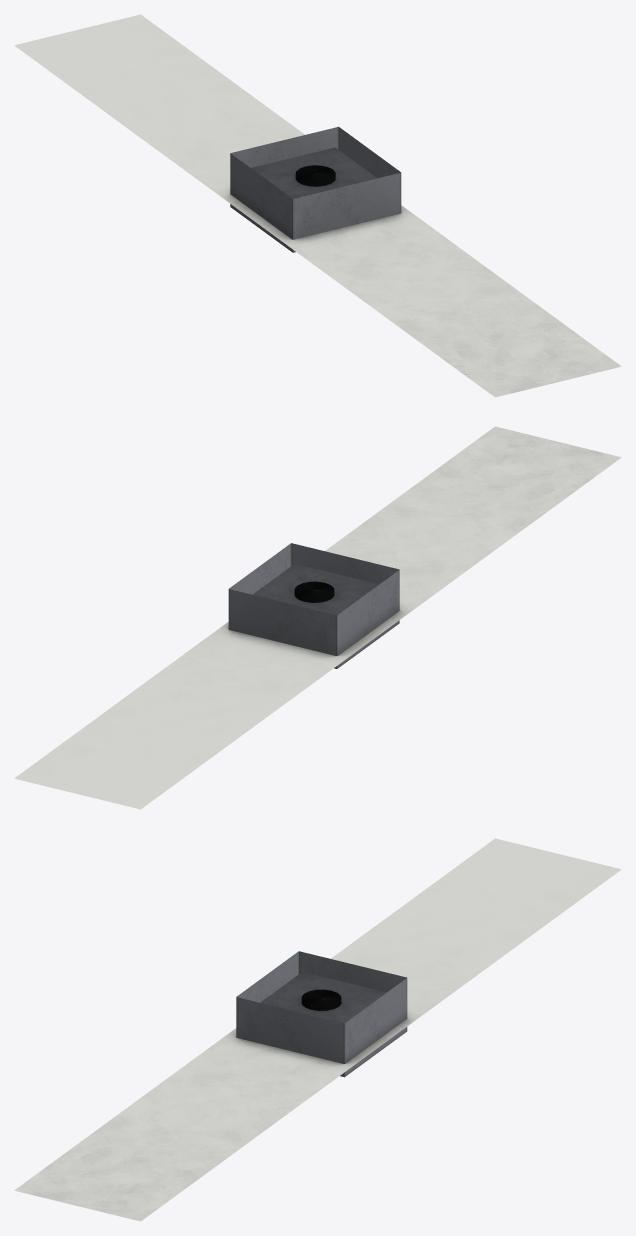
The model's file is Roof_vent.fbx.
3 renders of one model, top to bottom at view 1: azimuth 30°, elevation 25°; view 2: azimuth 150°, elevation 25°; view 3: azimuth 330°, elevation 25°, orthographic.
Visible parts, largest first — view 1: roofventilator, container, Cylinder; view 2: roofventilator, container, Cylinder; view 3: roofventilator, container, Cylinder.
Boxes of the visible parts, x1=… form: roofventilator: x1=14, y1=14, x2=621, y2=397; container: x1=230, y1=126, x2=401, y2=252; Cylinder: x1=295, y1=165, x2=335, y2=186; roofventilator: x1=14, y1=426, x2=621, y2=809; container: x1=228, y1=543, x2=399, y2=668; Cylinder: x1=294, y1=581, x2=334, y2=602; roofventilator: x1=14, y1=838, x2=621, y2=1221; container: x1=236, y1=951, x2=407, y2=1077; Cylinder: x1=301, y1=989, x2=341, y2=1010.
Size of the model in its own units: 408 by 166 by 2685.
